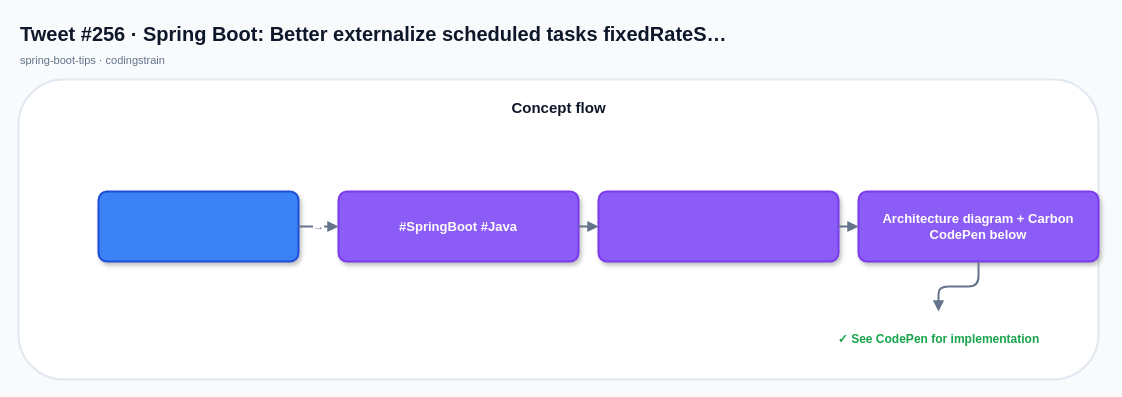
Some shapes in this 1122 by 397 pixel diagram are drawn without their labels. Each missing label, with the centre of its shape:
"Problem / context" goes at pixel 199 227.
"Runnable sample: `spring-boot-tips`" goes at pixel 719 227.
